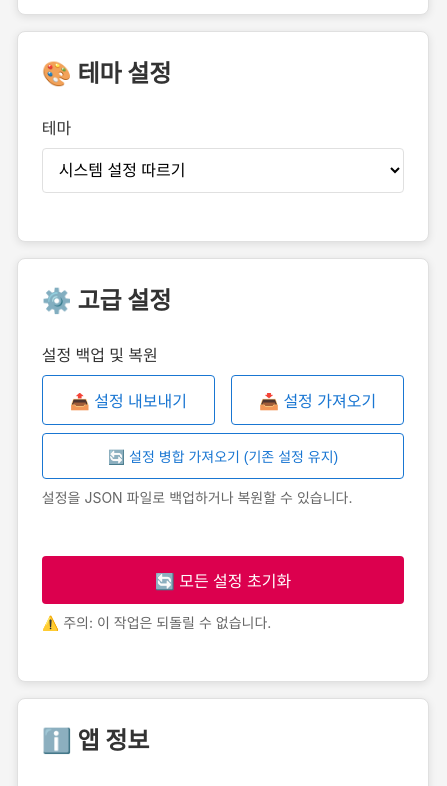
Test: Task 4.3 SettingsView UI Functionality › Import/Export Functionality › should handle successful import
(page scrolled)
Click the button "📥 설정 가져오기" at (318, 400), box [231, 375, 404, 425]
(page scrolled)
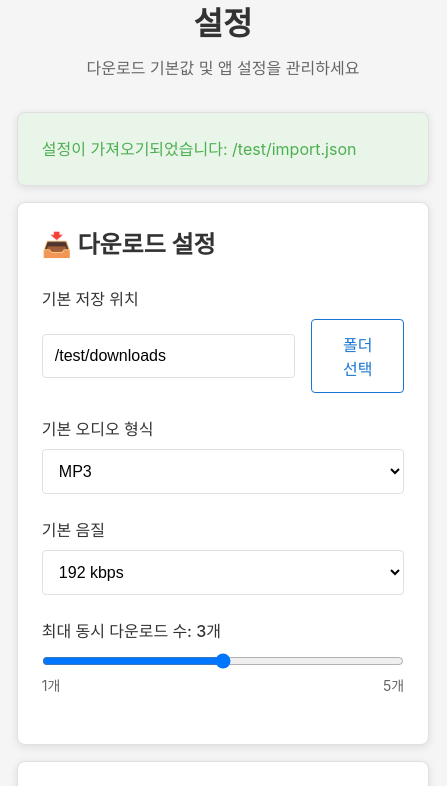
Now the text "설정이 가져오기되었습니다: /test/import.json" is shown, box [17, 112, 429, 186]
